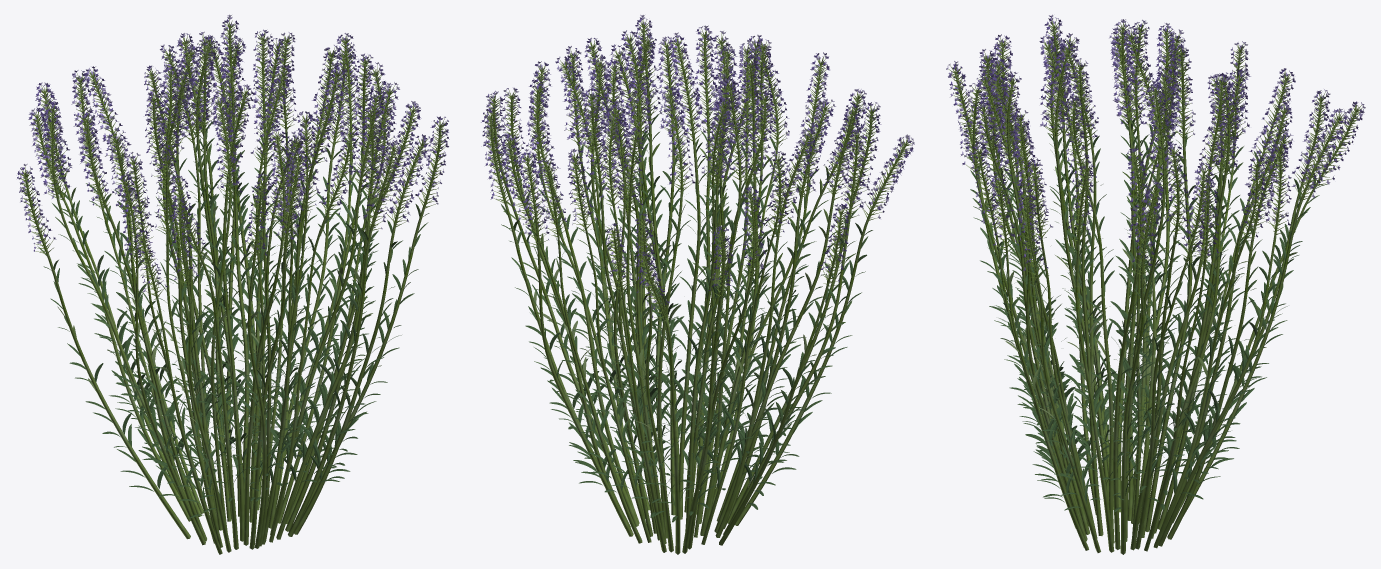
File: Lavandula.glb
3 views of the same model, side by side, from view 1: azimuth 30°, elevation 25°; view 2: azimuth 150°, elevation 25°; view 3: azimuth 270°, elevation 25° (orthographic).
Parts seen in each view (by area): view 1: AM_154_035_Lavandula_Angustifolia; view 2: AM_154_035_Lavandula_Angustifolia; view 3: AM_154_035_Lavandula_Angustifolia.
Part boxes in pixels (x1,y1,x2,y2): AM_154_035_Lavandula_Angustifolia: [17, 14, 449, 554]; AM_154_035_Lavandula_Angustifolia: [481, 15, 914, 554]; AM_154_035_Lavandula_Angustifolia: [946, 14, 1365, 554].
Size of the model in its own units: 0.4864 by 0.6092 by 0.4809.
Materials: 5 (5 with a texture image).
